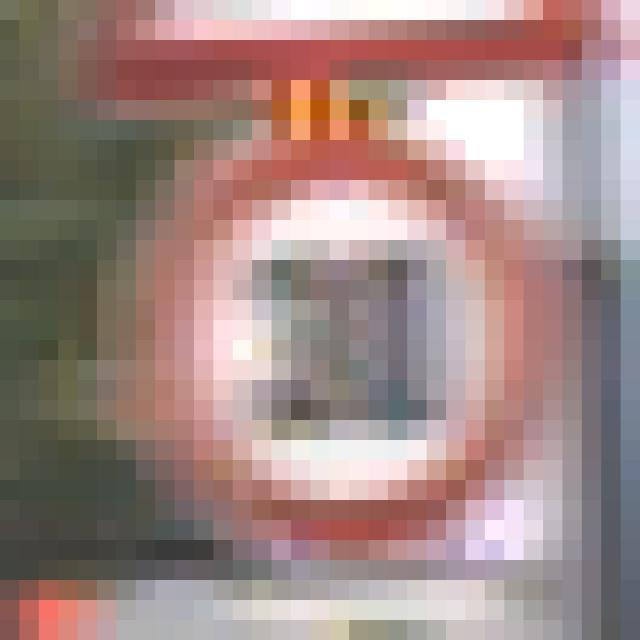Speed Limit -30-: (107, 90, 514, 510)
